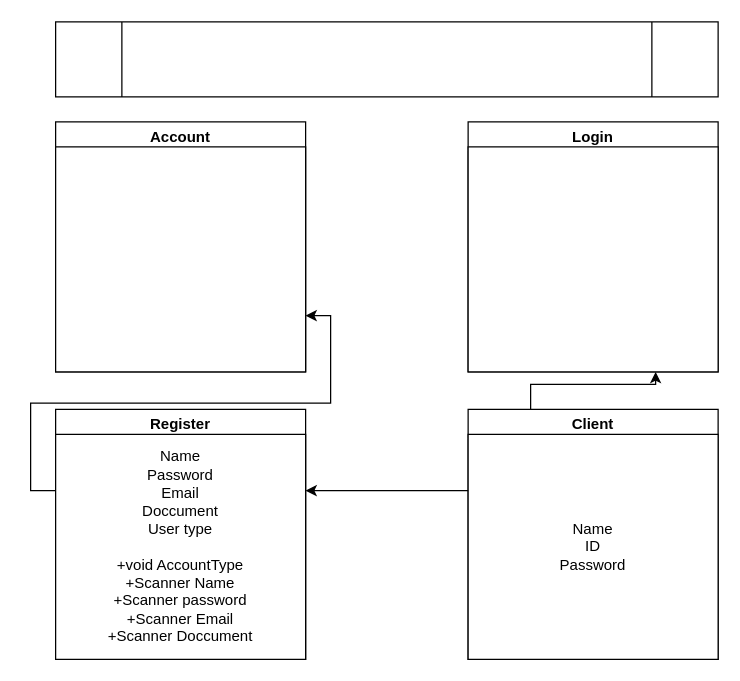
The diagram is 740 pixels wide and 681 high, and some of its shapes have lost their labels. Each missing label, with the centre of its shape:
"Account type Trans-ID +Account: constructor +void Deposit +void getTransID" belongs at point (180, 259).
"Email Password" belongs at point (592, 259).
"Registro, Login, Transacción" belongs at point (386, 59).
